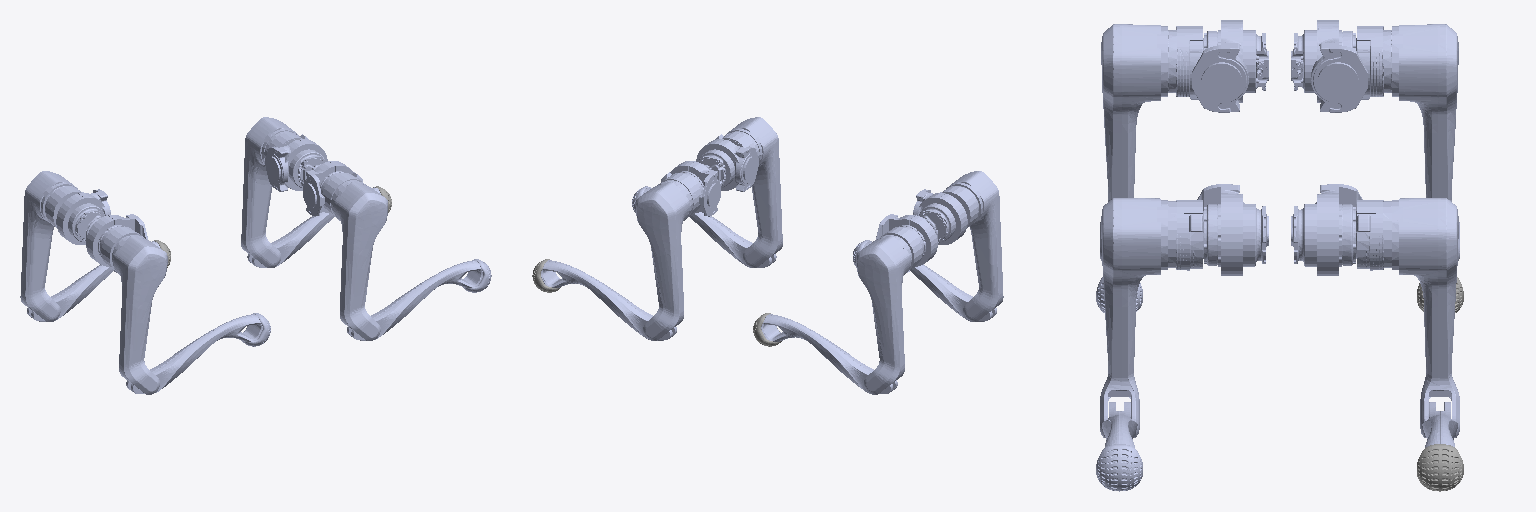
URDF robot description (as2):
<robot name="as2">

  <!-- [CAUTION] uncomment when convert to mujoco -->
  <mujoco>
    <compiler meshdir="../meshes" discardvisual="false" />
  </mujoco>
  <link name="world"></link>
  <joint name="floating_base_joint" type="floating">
    <parent link="world" />
    <child link="base_link" />
  </joint>

  <link
    name="base_link">
    <inertial>
      <origin
        xyz="0.045604 -0.0009 0.020368"
        rpy="0 0 0" />
      <mass
        value="8.8" />
      <inertia
        ixx="0.044044"
        ixy="1.959E-05"
        ixz="-0.026181"
        iyy="0.13739"
        iyz="0.00030824"
        izz="0.1462" />
    </inertial>
    <visual>
      <origin
        xyz="0 0 0"
        rpy="0 0 0" />
      <geometry>
        <mesh
          filename="../meshes/base_link.STL" />
      </geometry>
      <material
        name="">
        <color
          rgba="0.79216 0.81961 0.93333 1" />
      </material>
    </visual>
    <collision>
      <origin xyz="-0.0 -0.0 0.006" rpy="0 0 0" />
      <geometry>
        <box size="0.2 0.224 0.14" />
      </geometry>
    </collision>
    <collision>
      <origin xyz="0.283 -0.0 0.078" rpy="0 0 0" />
      <geometry>
        <sphere radius="0.043" />
      </geometry>
    </collision>
    <collision>
      <origin xyz="0.23 -0.0 0.085" rpy="0 1.68 0" />
      <geometry>
        <cylinder radius="0.045" length="0.06" />
      </geometry>
    </collision>
  </link>
  <link
    name="FL_hip">
    <inertial>
      <origin
        xyz="-0.0046547 -0.0088505 3.4235E-05"
        rpy="0 0 0" />
      <mass
        value="0.695" />
      <inertia
        ixx="0.00045574"
        ixy="3.269E-05"
        ixz="-1.7E-07"
        iyy="0.00057398"
        iyz="8.3E-07"
        izz="0.0005503" />
    </inertial>
    <visual>
      <origin
        xyz="0 0 0"
        rpy="0 0 0" />
      <geometry>
        <mesh
          filename="../meshes/FL_hip.STL" />
      </geometry>
      <material
        name="">
        <color
          rgba="0.79216 0.81961 0.93333 1" />
      </material>
    </visual>

  </link>
  <joint
    name="FL_hip_joint"
    type="revolute">
    <origin
      xyz="0.2119 0.06 0"
      rpy="0 0 0" />
    <parent
      link="base_link" />
    <child
      link="FL_hip" />
    <axis
      xyz="1 0 0" />
    <limit
      lower="-0.785"
      upper="0.785"
      effort="60.0"
      velocity="24.0" />
  </joint>
  <link
    name="FL_thigh">
    <inertial>
      <origin
        xyz="-0.0060186 -0.024079 -0.0374"
        rpy="0 0 0" />
      <mass
        value="1.25" />
      <inertia
        ixx="0.0060449"
        ixy="0.00020856"
        ixz="-0.00063523"
        iyy="0.0054351"
        iyz="0.0010644"
        izz="0.0015788" />
    </inertial>
    <visual>
      <origin
        xyz="0 0 0"
        rpy="0 0 0" />
      <geometry>
        <mesh
          filename="../meshes/FL_thigh.STL" />
      </geometry>
      <material
        name="">
        <color
          rgba="0.79216 0.81961 0.93333 1" />
      </material>
    </visual>
    <collision>
      <origin xyz="0.0 -0.03 0" rpy="1.571 0 0" />
      <geometry>
        <cylinder radius="0.04" length="0.1" />
      </geometry>
    </collision>
    <collision>
      <origin xyz="-0.02 -0.00 -0.09" rpy="0 0.1 0" />
      <geometry>
        <box size="0.045 0.03 0.14" />
      </geometry>
    </collision>
    <collision>
      <origin xyz="-0.02 0.00 -0.21" rpy="0 -0.77 0" />
      <geometry>
        <box size="0.01 0.035 0.04" />
      </geometry>
    </collision>
  </link>
  <joint
    name="FL_thigh_joint"
    type="revolute">
    <origin
      xyz="0 0.1054 0"
      rpy="0 0 0" />
    <parent
      link="FL_hip" />
    <child
      link="FL_thigh" />
    <axis
      xyz="0 1 0" />
    <limit
      lower="-2"
      upper="3.492"
      effort="60.0"
      velocity="24.0" />
  </joint>
  <link
    name="FL_calf">
    <inertial>
      <origin
        xyz="0.0078616 -7.7635E-08 -0.085034"
        rpy="0 0 0" />
      <mass
        value="0.22" />
      <inertia
        ixx="0.0010957"
        ixy="0"
        ixz="0.00012446"
        iyy="0.001123"
        iyz="0"
        izz="4.952E-05" />
    </inertial>
    <visual>
      <origin
        xyz="0 0 0"
        rpy="0 0 0" />
      <geometry>
        <mesh
          filename="../meshes/FL_calf.STL" />
      </geometry>
      <material
        name="">
        <color
          rgba="0.79216 0.81961 0.93333 1" />
      </material>
    </visual>
    <collision>
      <origin xyz="0.011 -0.00 -0.08" rpy="0 -0.285 0" />
      <geometry>
        <cylinder radius="0.013" length="0.05" />
      </geometry>
    </collision>
    <collision>
      <origin xyz="0.0215 -0.00 -0.13" rpy="0 -0.1 0" />
      <geometry>
        <cylinder radius="0.012" length="0.06" />
      </geometry>
    </collision>
    <collision>
      <origin xyz="0.02 -0.00 -0.185" rpy="0 0.15 0" />
      <geometry>
        <cylinder radius="0.012" length="0.055" />
      </geometry>
    </collision>
  </link>
  <joint
    name="FL_calf_joint"
    type="revolute">
    <origin
      xyz="0 0 -0.212"
      rpy="0 0 0" />
    <parent
      link="FL_thigh" />
    <child
      link="FL_calf" />
    <axis
      xyz="0 1 0" />
    <limit
      lower="-2.7677"
      upper="-0.8133"
      effort="90.0"
      velocity="16.0" />
  </joint>
  <link
    name="FL_foot">
    <inertial>
      <origin
        xyz="0.0 0.0 0.0"
        rpy="0 0 0" />
      <mass
        value="0.045" />
      <inertia
        ixx="1.0E-05"
        ixy="0"
        ixz="0"
        iyy="1.0E-05"
        iyz="0"
        izz="1.0E-05" />
    </inertial>
    <visual>
      <origin
        xyz="0 0 0"
        rpy="0 0 0" />
      <geometry>
        <mesh
          filename="../meshes/FL_foot.STL" />
      </geometry>
      <material
        name="">
        <color
          rgba="0.69804 0.69804 0.69804 1" />
      </material>
    </visual>
    <collision>
      <origin xyz="0.0 -0.00 -0.0" rpy="0 0 0" />
      <geometry>
        <sphere radius="0.028" />
      </geometry>
    </collision>
  </link>
  <joint
    name="FL_foot_joint"
    type="fixed">
    <origin
      xyz="0 0 -0.21344"
      rpy="0 0 0" />
    <parent
      link="FL_calf" />
    <child
      link="FL_foot" />
    <axis
      xyz="0 0 0" />
  </joint>
  <link
    name="FR_hip">
    <inertial>
      <origin
        xyz="-0.0046547 0.0088505 3.4234E-05"
        rpy="0 0 0" />
      <mass
        value="0.695" />
      <inertia
        ixx="0.00045574"
        ixy="-3.269E-05"
        ixz="-1.7E-07"
        iyy="0.00057398"
        iyz="-8.3E-07"
        izz="0.0005503" />
    </inertial>
    <visual>
      <origin
        xyz="0 0 0"
        rpy="0 0 0" />
      <geometry>
        <mesh
          filename="../meshes/FR_hip.STL" />
      </geometry>
      <material
        name="">
        <color
          rgba="0.79216 0.81961 0.93333 1" />
      </material>
    </visual>
  </link>
  <joint
    name="FR_hip_joint"
    type="revolute">
    <origin
      xyz="0.2119 -0.06 0"
      rpy="0 0 0" />
    <parent
      link="base_link" />
    <child
      link="FR_hip" />
    <axis
      xyz="1 0 0" />
    <limit
      lower="-0.785"
      upper="0.785"
      effort="60.0"
      velocity="24.0" />
  </joint>
  <link
    name="FR_thigh">
    <inertial>
      <origin
        xyz="-0.0060187 0.02408 -0.037399"
        rpy="0 0 0" />
      <mass
        value="1.25" />
      <inertia
        ixx="0.006045"
        ixy="-0.00020856"
        ixz="-0.00063524"
        iyy="0.0054353"
        iyz="-0.0010645"
        izz="0.0015788" />
    </inertial>
    <visual>
      <origin
        xyz="0 0 0"
        rpy="0 0 0" />
      <geometry>
        <mesh
          filename="../meshes/FR_thigh.STL" />
      </geometry>
      <material
        name="">
        <color
          rgba="0.79216 0.81961 0.93333 1" />
      </material>
    </visual>
    <collision>
      <origin xyz="0.0 0.03 0" rpy="1.571 0 0" />
      <geometry>
        <cylinder radius="0.04" length="0.1" />
      </geometry>
    </collision>
    <collision>
      <origin xyz="-0.02 -0.00 -0.09" rpy="0 0.1 0" />
      <geometry>
        <box size="0.045 0.03 0.14" />
      </geometry>
    </collision>
    <collision>
      <origin xyz="-0.02 0.00 -0.21" rpy="0 -0.77 0" />
      <geometry>
        <box size="0.01 0.035 0.04" />
      </geometry>
    </collision>
  </link>
  <joint
    name="FR_thigh_joint"
    type="revolute">
    <origin
      xyz="0 -0.1054 0"
      rpy="0 0 0" />
    <parent
      link="FR_hip" />
    <child
      link="FR_thigh" />
    <axis
      xyz="0 1 0" />
    <limit
      lower="-2"
      upper="3.492"
      effort="60.0"
      velocity="24.0" />
  </joint>
  <link
    name="FR_calf">
    <inertial>
      <origin
        xyz="0.0078616 -8.926E-08 -0.085034"
        rpy="0 0 0" />
      <mass
        value="0.22" />
      <inertia
        ixx="0.0010957"
        ixy="0"
        ixz="0.00012446"
        iyy="0.001123"
        iyz="0"
        izz="4.952E-05" />
    </inertial>
    <visual>
      <origin
        xyz="0 0 0"
        rpy="0 0 0" />
      <geometry>
        <mesh
          filename="../meshes/FR_calf.STL" />
      </geometry>
      <material
        name="">
        <color
          rgba="0.79216 0.81961 0.93333 1" />
      </material>
    </visual>
    <collision>
      <origin xyz="0.011 -0.00 -0.08" rpy="0 -0.285 0" />
      <geometry>
        <cylinder radius="0.013" length="0.05" />
      </geometry>
    </collision>
    <collision>
      <origin xyz="0.0215 -0.00 -0.13" rpy="0 -0.1 0" />
      <geometry>
        <cylinder radius="0.012" length="0.06" />
      </geometry>
    </collision>
    <collision>
      <origin xyz="0.02 -0.00 -0.185" rpy="0 0.15 0" />
      <geometry>
        <cylinder radius="0.012" length="0.055" />
      </geometry>
    </collision>
  </link>
  <joint
    name="FR_calf_joint"
    type="revolute">
    <origin
      xyz="0 0 -0.212"
      rpy="0 0 0" />
    <parent
      link="FR_thigh" />
    <child
      link="FR_calf" />
    <axis
      xyz="0 1 0" />
    <limit
      lower="-2.7677"
      upper="-0.8133"
      effort="90.0"
      velocity="16.0" />
  </joint>
  <link
    name="FR_foot">
    <inertial>
      <origin
        xyz="0.0 0.0 0.0"
        rpy="0 0 0" />
      <mass
        value="0.045" />
      <inertia
        ixx="1.0E-05"
        ixy="0"
        ixz="0"
        iyy="1.0E-05"
        iyz="0"
        izz="1.0E-05" />
    </inertial>
    <visual>
      <origin
        xyz="0 0 0"
        rpy="0 0 0" />
      <geometry>
        <mesh
          filename="../meshes/FR_foot.STL" />
      </geometry>
      <material
        name="">
        <color
          rgba="0.79216 0.81961 0.93333 1" />
      </material>
    </visual>
    <collision>
      <origin xyz="0.0 -0.00 -0.0" rpy="0 0 0" />
      <geometry>
        <sphere radius="0.028" />
      </geometry>
    </collision>
  </link>
  <joint
    name="FR_foot_joint"
    type="fixed">
    <origin
      xyz="0 0 -0.21344"
      rpy="0 0 0" />
    <parent
      link="FR_calf" />
    <child
      link="FR_foot" />
    <axis
      xyz="0 0 0" />
  </joint>
  <link
    name="RL_hip">
    <inertial>
      <origin
        xyz="0.0046637 -0.0088505 -3.8901E-05"
        rpy="0 0 0" />
      <mass
        value="0.695" />
      <inertia
        ixx="0.00045574"
        ixy="-3.289E-05"
        ixz="-1.8E-07"
        iyy="0.00057392"
        iyz="-7.3E-07"
        izz="0.00055024" />
    </inertial>
    <visual>
      <origin
        xyz="0 0 0"
        rpy="0 0 0" />
      <geometry>
        <mesh
          filename="../meshes/RL_hip.STL" />
      </geometry>
      <material
        name="">
        <color
          rgba="0.79216 0.81961 0.93333 1" />
      </material>
    </visual>
  </link>
  <joint
    name="RL_hip_joint"
    type="revolute">
    <origin
      xyz="-0.2119 0.06 0"
      rpy="0 0 0" />
    <parent
      link="base_link" />
    <child
      link="RL_hip" />
    <axis
      xyz="1 0 0" />
    <limit
      lower="-0.785"
      upper="0.785"
      effort="60.0"
      velocity="24.0" />
  </joint>
  <link
    name="RL_thigh">
    <inertial>
      <origin
        xyz="-0.0068766 -0.022228 -0.039019"
        rpy="0 0 0" />
      <mass
        value="1.25" />
      <inertia
        ixx="0.0061346"
        ixy="0.00017144"
        ixz="-0.00062209"
        iyy="0.0055602"
        iyz="0.0010266"
        izz="0.0015189" />
    </inertial>
    <visual>
      <origin
        xyz="0 0 0"
        rpy="0 0 0" />
      <geometry>
        <mesh
          filename="../meshes/RL_thigh.STL" />
      </geometry>
      <material
        name="">
        <color
          rgba="0.79216 0.81961 0.93333 1" />
      </material>
    </visual>
    <collision>
      <origin xyz="0.0 -0.03 0" rpy="1.571 0 0" />
      <geometry>
        <cylinder radius="0.04" length="0.1" />
      </geometry>
    </collision>
    <collision>
      <origin xyz="-0.02 -0.00 -0.09" rpy="0 0.1 0" />
      <geometry>
        <box size="0.045 0.03 0.14" />
      </geometry>
    </collision>
    <collision>
      <origin xyz="-0.02 0.00 -0.21" rpy="0 -0.77 0" />
      <geometry>
        <box size="0.01 0.035 0.04" />
      </geometry>
    </collision>
  </link>
  <joint
    name="RL_thigh_joint"
    type="revolute">
    <origin
      xyz="0 0.1054 0"
      rpy="0 0 0" />
    <parent
      link="RL_hip" />
    <child
      link="RL_thigh" />
    <axis
      xyz="0 1 0" />
    <limit
      lower="-1.3"
      upper="4.19"
      effort="60.0"
      velocity="24.0" />
  </joint>
  <link
    name="RL_calf">
    <inertial>
      <origin
        xyz="0.0078616 -7.7491E-08 -0.085034"
        rpy="0 0 0" />
      <mass
        value="0.22" />
      <inertia
        ixx="0.0010957"
        ixy="0"
        ixz="0.00012446"
        iyy="0.001123"
        iyz="0"
        izz="4.952E-05" />
    </inertial>
    <visual>
      <origin
        xyz="0 0 0"
        rpy="0 0 0" />
      <geometry>
        <mesh
          filename="../meshes/RL_calf.STL" />
      </geometry>
      <material
        name="">
        <color
          rgba="0.79216 0.81961 0.93333 1" />
      </material>
    </visual>
    <collision>
      <origin xyz="0.011 -0.00 -0.08" rpy="0 -0.285 0" />
      <geometry>
        <cylinder radius="0.013" length="0.05" />
      </geometry>
    </collision>
    <collision>
      <origin xyz="0.0215 -0.00 -0.13" rpy="0 -0.1 0" />
      <geometry>
        <cylinder radius="0.012" length="0.06" />
      </geometry>
    </collision>
    <collision>
      <origin xyz="0.02 -0.00 -0.185" rpy="0 0.15 0" />
      <geometry>
        <cylinder radius="0.012" length="0.055" />
      </geometry>
    </collision>
  </link>
  <joint
    name="RL_calf_joint"
    type="revolute">
    <origin
      xyz="0 0 -0.212"
      rpy="0 0 0" />
    <parent
      link="RL_thigh" />
    <child
      link="RL_calf" />
    <axis
      xyz="0 1 0" />
    <limit
      lower="-2.7677"
      upper="-0.8133"
      effort="90.0"
      velocity="16.0" />
  </joint>
  <link
    name="RL_foot">
    <inertial>
      <origin
        xyz="0.0 0.0 0.0"
        rpy="0 0 0" />
      <mass
        value="0.045" />
      <inertia
        ixx="1.0E-05"
        ixy="0"
        ixz="0"
        iyy="1.0E-05"
        iyz="0"
        izz="1.0E-05" />
    </inertial>
    <visual>
      <origin
        xyz="0 0 0"
        rpy="0 0 0" />
      <geometry>
        <mesh
          filename="../meshes/RL_foot.STL" />
      </geometry>
      <material
        name="">
        <color
          rgba="0.69804 0.69804 0.69804 1" />
      </material>
    </visual>
    <collision>
      <origin xyz="0.0 -0.00 -0.0" rpy="0 0 0" />
      <geometry>
        <sphere radius="0.028" />
      </geometry>
    </collision>
  </link>
  <joint
    name="RL_foot_joint"
    type="fixed">
    <origin
      xyz="0 0 -0.21344"
      rpy="0 0 0" />
    <parent
      link="RL_calf" />
    <child
      link="RL_foot" />
    <axis
      xyz="0 0 0" />
  </joint>
  <link
    name="RR_hip">
    <inertial>
      <origin
        xyz="0.0046637 0.0088505 -3.89E-05"
        rpy="0 0 0" />
      <mass
        value="0.695" />
      <inertia
        ixx="0.00045574"
        ixy="3.289E-05"
        ixz="-1.8E-07"
        iyy="0.00057392"
        iyz="7.3E-07"
        izz="0.00055024" />
    </inertial>
    <visual>
      <origin
        xyz="0 0 0"
        rpy="0 0 0" />
      <geometry>
        <mesh
          filename="../meshes/RR_hip.STL" />
      </geometry>
      <material
        name="">
        <color
          rgba="0.79216 0.81961 0.93333 1" />
      </material>
    </visual>
  </link>
  <joint
    name="RR_hip_joint"
    type="revolute">
    <origin
      xyz="-0.2119 -0.06 0"
      rpy="0 0 0" />
    <parent
      link="base_link" />
    <child
      link="RR_hip" />
    <axis
      xyz="1 0 0" />
    <limit
      lower="-0.785"
      upper="0.785"
      effort="60.0"
      velocity="24.0" />
  </joint>
  <link
    name="RR_thigh">
    <inertial>
      <origin
        xyz="-0.0068763 0.022228 -0.039019"
        rpy="0 0 0" />
      <mass
        value="1.25" />
      <inertia
        ixx="0.0061347"
        ixy="-0.00017144"
        ixz="-0.00062209"
        iyy="0.0055603"
        iyz="-0.0010266"
        izz="0.0015189" />
    </inertial>
    <visual>
      <origin
        xyz="0 0 0"
        rpy="0 0 0" />
      <geometry>
        <mesh
          filename="../meshes/RR_thigh.STL" />
      </geometry>
      <material
        name="">
        <color
          rgba="0.79216 0.81961 0.93333 1" />
      </material>
    </visual>
    <collision>
      <origin xyz="0.0 0.03 0" rpy="1.571 0 0" />
      <geometry>
        <cylinder radius="0.04" length="0.1" />
      </geometry>
    </collision>
    <collision>
      <origin xyz="-0.02 -0.00 -0.09" rpy="0 0.1 0" />
      <geometry>
        <box size="0.045 0.03 0.14" />
      </geometry>
    </collision>
    <collision>
      <origin xyz="-0.02 0.00 -0.21" rpy="0 -0.77 0" />
      <geometry>
        <box size="0.01 0.035 0.04" />
      </geometry>
    </collision>
  </link>
  <joint
    name="RR_thigh_joint"
    type="revolute">
    <origin
      xyz="0 -0.1054 0"
      rpy="0 0 0" />
    <parent
      link="RR_hip" />
    <child
      link="RR_thigh" />
    <axis
      xyz="0 1 0" />
    <limit
      lower="-1.3"
      upper="4.19"
      effort="60.0"
      velocity="24.0" />
  </joint>
  <link
    name="RR_calf">
    <inertial>
      <origin
        xyz="0.0078616 -8.6653E-08 -0.085034"
        rpy="0 0 0" />
      <mass
        value="0.22" />
      <inertia
        ixx="0.0010957"
        ixy="0"
        ixz="0.00012446"
        iyy="0.001123"
        iyz="0"
        izz="4.952E-05" />
    </inertial>
    <visual>
      <origin
        xyz="0 0 0"
        rpy="0 0 0" />
      <geometry>
        <mesh
          filename="../meshes/RR_calf.STL" />
      </geometry>
      <material
        name="">
        <color
          rgba="0.79216 0.81961 0.93333 1" />
      </material>
    </visual>
    <collision>
      <origin xyz="0.011 -0.00 -0.08" rpy="0 -0.285 0" />
      <geometry>
        <cylinder radius="0.013" length="0.05" />
      </geometry>
    </collision>
    <collision>
      <origin xyz="0.0215 -0.00 -0.13" rpy="0 -0.1 0" />
      <geometry>
        <cylinder radius="0.012" length="0.06" />
      </geometry>
    </collision>
    <collision>
      <origin xyz="0.02 -0.00 -0.185" rpy="0 0.15 0" />
      <geometry>
        <cylinder radius="0.012" length="0.055" />
      </geometry>
    </collision>
  </link>
  <joint
    name="RR_calf_joint"
    type="revolute">
    <origin
      xyz="0 0 -0.212"
      rpy="0 0 0" />
    <parent
      link="RR_thigh" />
    <child
      link="RR_calf" />
    <axis
      xyz="0 1 0" />
    <limit
      lower="-2.7677"
      upper="-0.8133"
      effort="90.0"
      velocity="16.0" />
  </joint>
  <link
    name="RR_foot">
    <inertial>
      <origin
        xyz="0.0 0.0 0.0"
        rpy="0 0 0" />
      <mass
        value="0.045" />
      <inertia
        ixx="1.0E-05"
        ixy="0"
        ixz="0"
        iyy="1.0E-05"
        iyz="0"
        izz="1.0E-05" />
    </inertial>
    <visual>
      <origin
        xyz="0 0 0"
        rpy="0 0 0" />
      <geometry>
        <mesh
          filename="../meshes/RR_foot.STL" />
      </geometry>
      <material
        name="">
        <color
          rgba="0.79216 0.81961 0.93333 1" />
      </material>
    </visual>
    <collision>
      <origin xyz="0.0 -0.00 -0.0" rpy="0 0 0" />
      <geometry>
        <sphere radius="0.028" />
      </geometry>
    </collision>
  </link>
  <joint
    name="RR_foot_joint"
    type="fixed">
    <origin
      xyz="0 0 -0.21344"
      rpy="0 0 0" />
    <parent
      link="RR_calf" />
    <child
      link="RR_foot" />
    <axis
      xyz="0 0 0" />
  </joint>
</robot>

--- Facts derived from the render (not from the file) ---
The picture shows the robot from 3 angles, left to right: view 1: azimuth 30°, elevation 25°; view 2: azimuth 150°, elevation 25°; view 3: azimuth 270°, elevation 25°; orthographic projection.
Robot: as2 — 18 links, 17 joints (12 revolute, 4 fixed, 1 floating); root link world; default pose: all joints at 0 but 4 set to mid-range because 0 is outside their limits (FL_calf_joint = -1.79, FR_calf_joint = -1.79, RL_calf_joint = -1.79, RR_calf_joint = -1.79).
Links seen in each view (by area): view 1: FR_thigh, RR_thigh, RL_thigh, FL_thigh, RR_calf, FR_calf, FL_hip, RL_hip, RR_hip, FR_hip, RL_calf, FL_calf; view 2: FL_thigh, RL_thigh, RR_thigh, FR_thigh, RL_calf, FL_calf, FR_hip, RR_hip, RL_hip, FL_hip, RR_calf, FR_calf; view 3: FR_thigh, FL_thigh, RL_thigh, RR_thigh, RL_hip, RR_hip, FL_hip, FR_hip, FL_foot, FR_foot, FR_calf, FL_calf.
Link boxes in pixels (x1,y1,x2,y2): FR_thigh: (322,172,387,340); RR_thigh: (101,227,167,394); RL_thigh: (20,171,81,321); FL_thigh: (241,117,308,267); RR_calf: (126,314,262,393); FR_calf: (347,260,482,340); FL_hip: (265,139,327,191); RL_hip: (56,189,110,244); RR_hip: (86,214,147,266); FR_hip: (303,161,353,216); RL_calf: (27,241,159,321); FL_calf: (247,187,380,267); FL_thigh: (636,172,701,340); RL_thigh: (856,227,922,394); RR_thigh: (942,171,1003,321); FR_thigh: (715,117,782,267); RL_calf: (761,314,897,393); FL_calf: (541,260,676,340); FR_hip: (696,139,758,191); RR_hip: (913,189,967,244); RL_hip: (876,214,937,266); FL_hip: (670,161,720,216); RR_calf: (864,241,996,321); FR_calf: (643,187,776,267); FR_thigh: (1100,198,1203,437); FL_thigh: (1356,198,1459,437); RL_thigh: (1357,24,1459,260); RR_thigh: (1100,24,1202,260); RL_hip: (1291,20,1367,112); RR_hip: (1192,20,1268,112); FL_hip: (1291,184,1362,275); FR_hip: (1197,184,1268,275); FL_foot: (1417,444,1463,491); FR_foot: (1096,444,1142,491); FR_calf: (1102,402,1137,447); FL_calf: (1422,402,1457,447).
Bounding box of the posed robot: 0.7056 × 0.3794 × 0.2758 m (x, y, z).
Meshes: 17 distinct files referenced, 16 mesh visuals loaded (16 binary STL); not drawn: 1 (reference not matched to a file when rendering).
